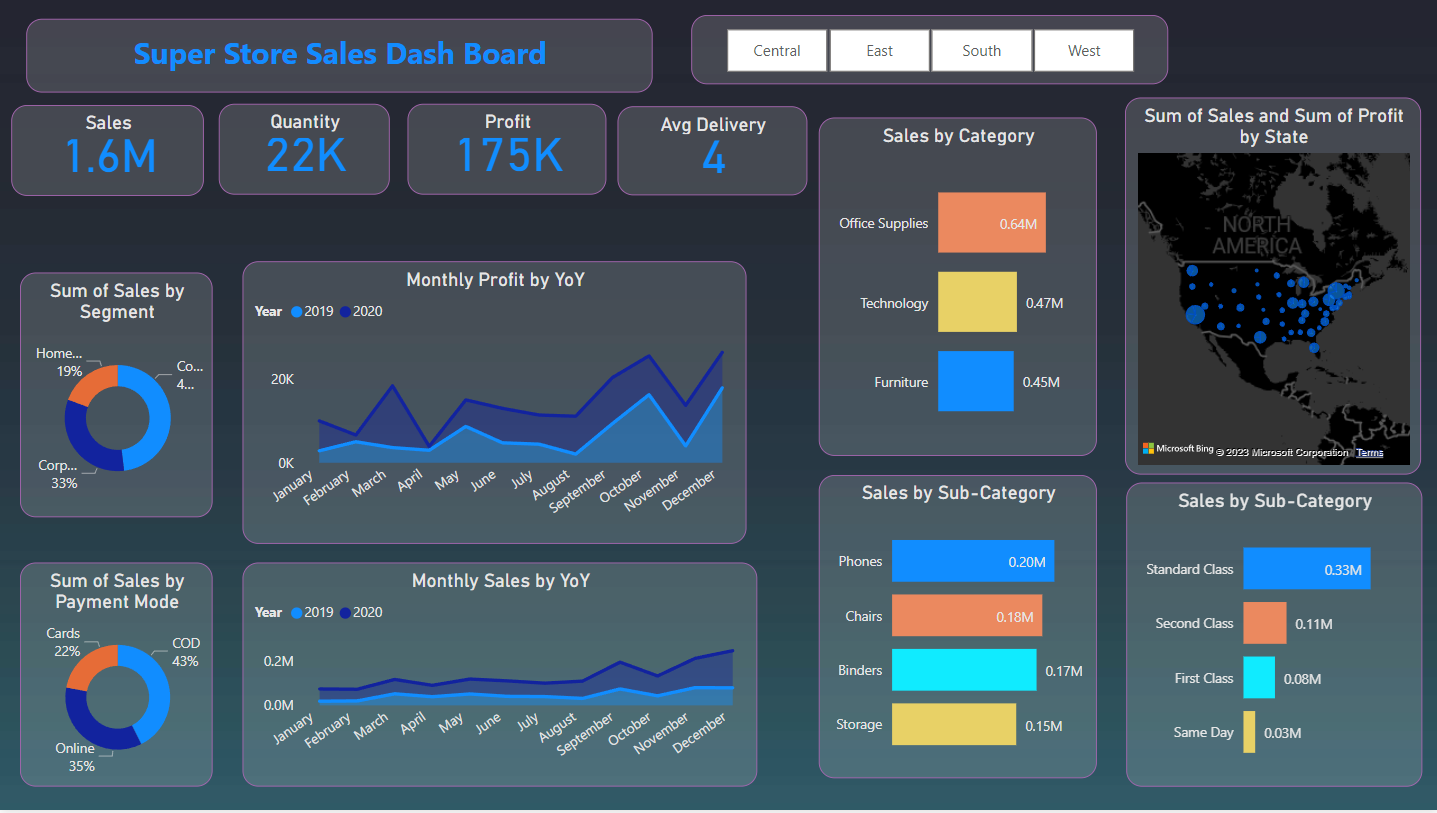

The dashboard page shown, as its layout file describes it:
{"tool":"powerbi","page":{"name":"Page 1","canvas":[1280,720],"ordinal":0},"visuals":[{"type":"clusteredBarChart","title":" Sales by Category","fields":{"Category":["SuperStore_Sales_Dataset.Category"],"Y":["Sum(SuperStore_Sales_Dataset.Sales)"]},"box":[728,104.3,247.3,301.1],"z":0},{"type":"clusteredBarChart","title":" Sales by Sub-Category","fields":{"Y":["Sum(SuperStore_Sales_Dataset.Sales)"],"Category":["SuperStore_Sales_Dataset.Sub-Category"]},"box":[728,422.6,247.3,269.9],"z":1000},{"type":"map","title":"Sum of Sales and Sum of Profit by State","fields":{"Series":["SuperStore_Sales_Dataset.Ship Mode"],"Category":["SuperStore_Sales_Dataset.State"],"Size":["Sum(SuperStore_Sales_Dataset.Sales)"]},"box":[1000,87.1,263.4,335.5],"z":2000},{"type":"stackedAreaChart","title":"Monthly  Sales by YoY","fields":{"Y":["Sum(SuperStore_Sales_Dataset.Sales)"],"Category":["SuperStore_Sales_Dataset.Order Date.Variation.Date Hierarchy.Month","SuperStore_Sales_Dataset.Order Date.Variation.Date Hierarchy.Day"],"Series":["SuperStore_Sales_Dataset.Order Date.Variation.Date Hierarchy.Year"]},"box":[215.3,500.4,457.9,198.8],"z":3000},{"type":"stackedAreaChart","title":"Monthly Profit by YoY","fields":{"Category":["SuperStore_Sales_Dataset.Order Date.Variation.Date Hierarchy.Month","SuperStore_Sales_Dataset.Order Date.Variation.Date Hierarchy.Day"],"Series":["SuperStore_Sales_Dataset.Order Date.Variation.Date Hierarchy.Year"],"Y":["Sum(SuperStore_Sales_Dataset.Profit)"]},"box":[215.3,231.7,448.3,250.9],"z":4000},{"type":"clusteredBarChart","title":" Sales by Sub-Category","fields":{"Y":["Sum(SuperStore_Sales_Dataset.Sales)"],"Category":["SuperStore_Sales_Dataset.Ship Mode","SuperStore_Sales_Dataset.Sub-Category"]},"box":[1000.9,429.1,263.2,270.1],"z":5000},{"type":"donutChart","fields":{"Category":["SuperStore_Sales_Dataset.Segment"],"Y":["Sum(SuperStore_Sales_Dataset.Sales)"]},"box":[17.8,242.7,171.4,218],"z":6000},{"type":"donutChart","fields":{"Category":["SuperStore_Sales_Dataset.Payment Mode"],"Y":["Sum(SuperStore_Sales_Dataset.Sales)"]},"box":[17.8,500.4,171.4,198.8],"z":7000},{"type":"slicer","fields":{"Values":["SuperStore_Sales_Dataset.Region"]},"box":[614.2,13.7,423.7,61.7],"z":8000},{"type":"textbox","box":[23.3,16.5,556.6,65.8],"z":9000},{"type":"card","title":"Sales","fields":{"Values":["Sum(SuperStore_Sales_Dataset.Sales)"]},"box":[9.6,93.2,171.4,80.9],"z":10000},{"type":"card","title":"Quantity","fields":{"Values":["Sum(SuperStore_Sales_Dataset.Quantity)"]},"box":[194.7,91.9,152.2,80.9],"z":11000},{"type":"card","title":"Profit","fields":{"Values":["Sum(SuperStore_Sales_Dataset.Profit)"]},"box":[362,91.9,176.9,80.9],"z":12000},{"type":"card","title":"Avg Delivery","fields":{"Values":["Avg(SuperStore_Sales_Dataset.Avg Delivery)"]},"box":[548.4,94.6,168.6,79.5],"z":13000}]}

Visuals, with their boxes in screenshot pixels (x1, y1, x2, y2), scaled from the page's 1280x720 canvas onto the 1437x813 screenshot:
" Sales by Category" clusteredBarChart: {"x1": 817, "y1": 118, "x2": 1095, "y2": 458}
" Sales by Sub-Category" clusteredBarChart: {"x1": 817, "y1": 477, "x2": 1095, "y2": 782}
"Sum of Sales and Sum of Profit by State" map: {"x1": 1123, "y1": 98, "x2": 1418, "y2": 477}
"Monthly  Sales by YoY" stackedAreaChart: {"x1": 242, "y1": 565, "x2": 756, "y2": 790}
"Monthly Profit by YoY" stackedAreaChart: {"x1": 242, "y1": 262, "x2": 745, "y2": 545}
" Sales by Sub-Category" clusteredBarChart: {"x1": 1124, "y1": 485, "x2": 1419, "y2": 790}
donutChart - SuperStore_Sales_Dataset.Segment x Sum(SuperStore_Sales_Dataset.Sales): {"x1": 20, "y1": 274, "x2": 212, "y2": 520}
donutChart - SuperStore_Sales_Dataset.Payment Mode x Sum(SuperStore_Sales_Dataset.Sales): {"x1": 20, "y1": 565, "x2": 212, "y2": 790}
slicer - SuperStore_Sales_Dataset.Region: {"x1": 690, "y1": 15, "x2": 1165, "y2": 85}
textbox: {"x1": 26, "y1": 19, "x2": 651, "y2": 93}
"Sales" card: {"x1": 11, "y1": 105, "x2": 203, "y2": 197}
"Quantity" card: {"x1": 219, "y1": 104, "x2": 389, "y2": 195}
"Profit" card: {"x1": 406, "y1": 104, "x2": 605, "y2": 195}
"Avg Delivery" card: {"x1": 616, "y1": 107, "x2": 805, "y2": 197}
